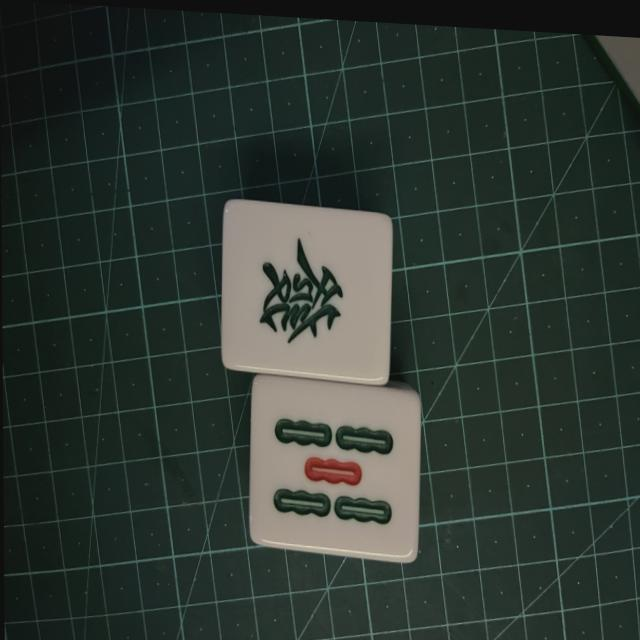5B: (254, 381, 419, 559)
GD: (221, 208, 388, 381)
